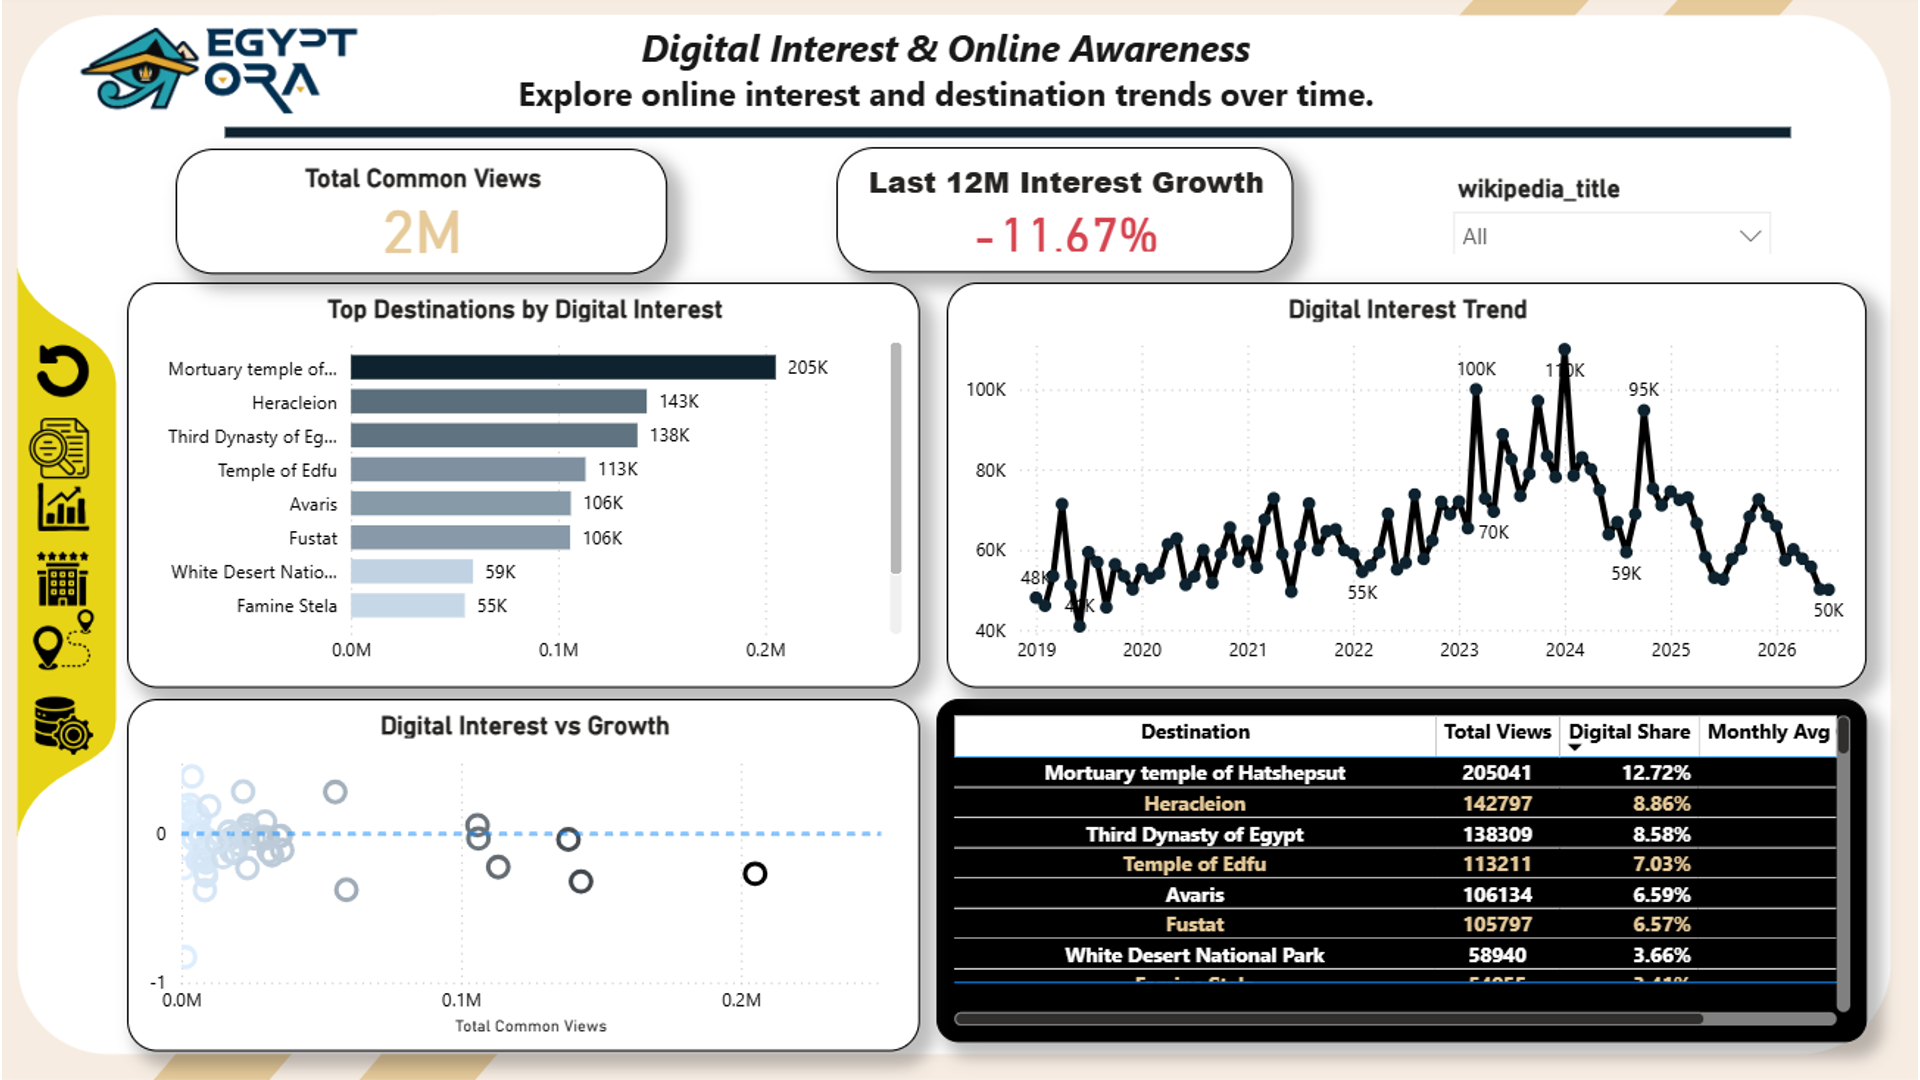

The page's visual inventory and layout, read from the dashboard file:
{"tool":"powerbi","page":{"name":"Digital Interest","canvas":[1280,720],"ordinal":4},"visuals":[{"type":"card","title":"Last 12M Interest Growth","fields":{"Values":["Attraction Linked.L12M Growth %"]},"box":[562.3,101.5,302.4,82.8],"z":0},{"type":"clusteredBarChart","title":"Top Destinations by Digital Interest","fields":{"Category":["Wikimedia Common.wikipedia_title"],"Y":["Sum(Wikimedia Common.reference_interest_views)"]},"box":[93.4,190.6,524.3,268.4],"z":2000},{"type":"tableEx","fields":{"Values":["Wikimedia Common.wikipedia_title","Attraction Linked.Total Common Views","Attraction Linked.Title Digital Share %","Attraction Linked.Monthly Avg Common Views"]},"box":[628.3,465.9,614.7,226.6],"z":3000},{"type":"scatterChart","title":"Digital Interest vs Growth","fields":{"Series":["Wikimedia Coverage.wikipedia_title"],"Size":["Attraction Linked.Monthly Avg Common Views"],"X":["Attraction Linked.Total Common Views"],"Y":["Attraction Linked.L12M Growth %"]},"box":[93.4,465.9,524.3,233.4],"z":4000},{"type":"lineChart","title":"Digital Interest Trend","fields":{"Category":["Wikimedia Interest.date"],"Y":["Attraction Linked.Selected Title Views"]},"box":[635.1,190.6,607.9,268.4],"z":5000},{"type":"slicer","title":"Destination","fields":{"Values":["Wikimedia Coverage.wikipedia_title"]},"box":[960,112.9,229.9,59],"z":6000},{"type":"textbox","box":[298.6,13.6,672.1,72.9],"z":7000},{"type":"card","title":"Total Common Views","fields":{"Values":["Attraction Linked.Total Common Views"]},"box":[125.9,101.8,325.2,82.9],"z":8000},{"type":"image","box":[23.7,275.3,50.1,50.1],"z":9000},{"type":"image","box":[23.7,316.9,55.8,43.5],"z":10000},{"type":"image","box":[23.7,360.4,55.8,51.1],"z":11000},{"type":"image","box":[21.8,402.1,60.5,50.1],"z":12000},{"type":"image","box":[24.6,457.9,55.8,51.1],"z":13000},{"type":"image","box":[14.2,0,273.1,96.7],"z":14000},{"type":"image","box":[17.7,223.4,67.4,51.4],"z":15000}]}

Visuals, with their boxes in screenshot pixels (x1, y1, x2, y2), scaled from the page's 1280x720 canvas onto the 1920x1080 screenshot:
"Last 12M Interest Growth" card: pyautogui.locateOnScreen(843, 152, 1297, 276)
"Top Destinations by Digital Interest" clusteredBarChart: pyautogui.locateOnScreen(140, 286, 927, 688)
tableEx - Wikimedia Common.wikipedia_title x Attraction Linked.Total Common Views: pyautogui.locateOnScreen(942, 699, 1864, 1039)
"Digital Interest vs Growth" scatterChart: pyautogui.locateOnScreen(140, 699, 927, 1049)
"Digital Interest Trend" lineChart: pyautogui.locateOnScreen(953, 286, 1864, 688)
"Destination" slicer: pyautogui.locateOnScreen(1440, 169, 1785, 258)
textbox: pyautogui.locateOnScreen(448, 20, 1456, 130)
"Total Common Views" card: pyautogui.locateOnScreen(189, 153, 677, 277)
image: pyautogui.locateOnScreen(36, 413, 111, 488)
image: pyautogui.locateOnScreen(36, 475, 119, 541)
image: pyautogui.locateOnScreen(36, 541, 119, 617)
image: pyautogui.locateOnScreen(33, 603, 123, 678)
image: pyautogui.locateOnScreen(37, 687, 121, 764)
image: pyautogui.locateOnScreen(21, 0, 431, 145)
image: pyautogui.locateOnScreen(27, 335, 128, 412)
